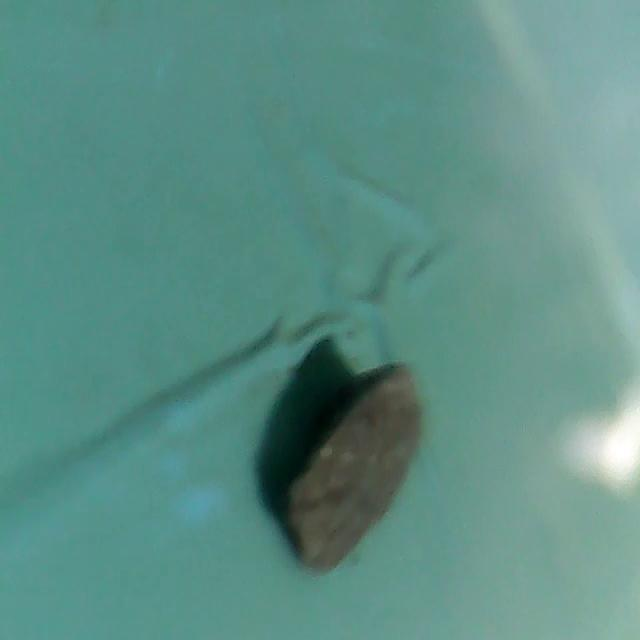rock: (269, 360, 434, 581)
